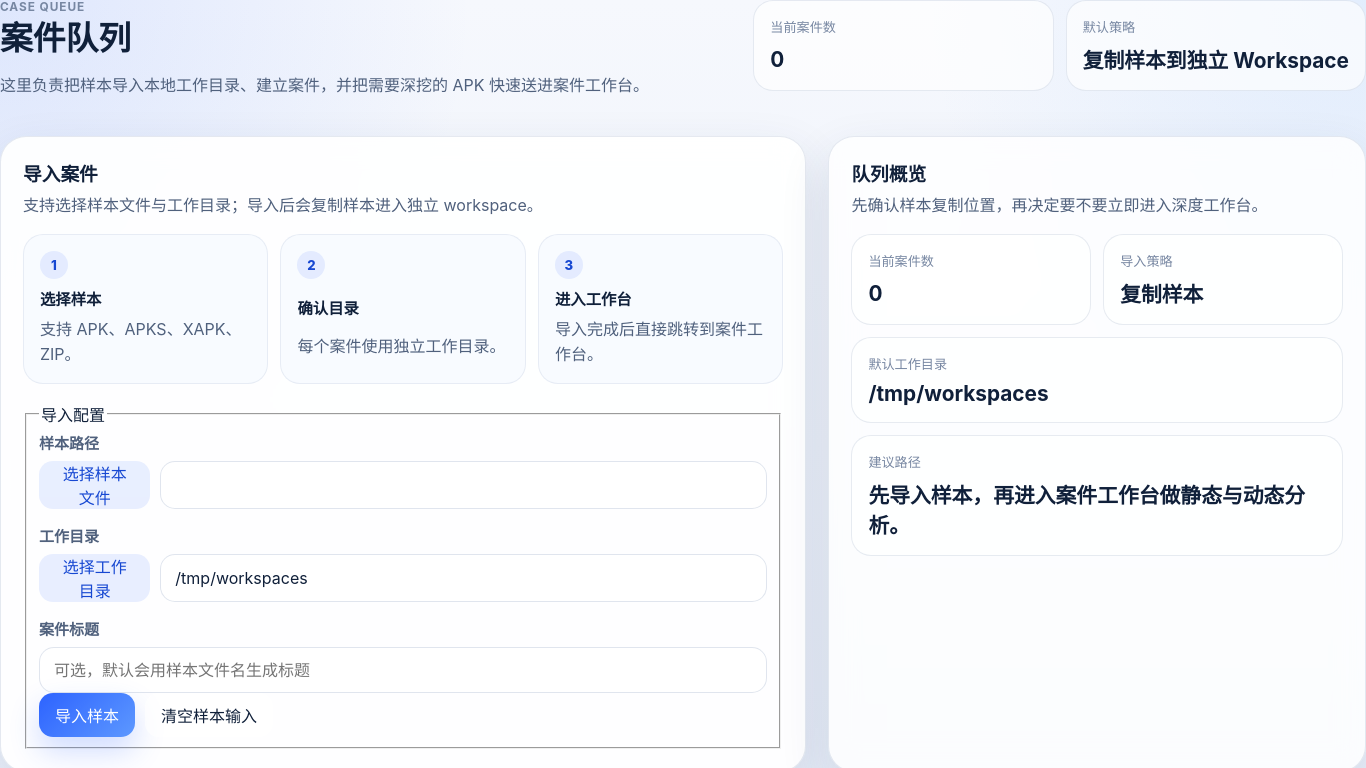
CaseQueuePage › shows a Chinese error message when importing fails
The image size is (1366, 768).
Expected: the field labelled "工作目录" holds "/tmp/workspaces", [160,554,767,602]
Type "/tmp/sample.apk" into the field labelled "样本路径".
click(464, 485); type("/tmp/sample.apk")  # box [160,461,767,509]
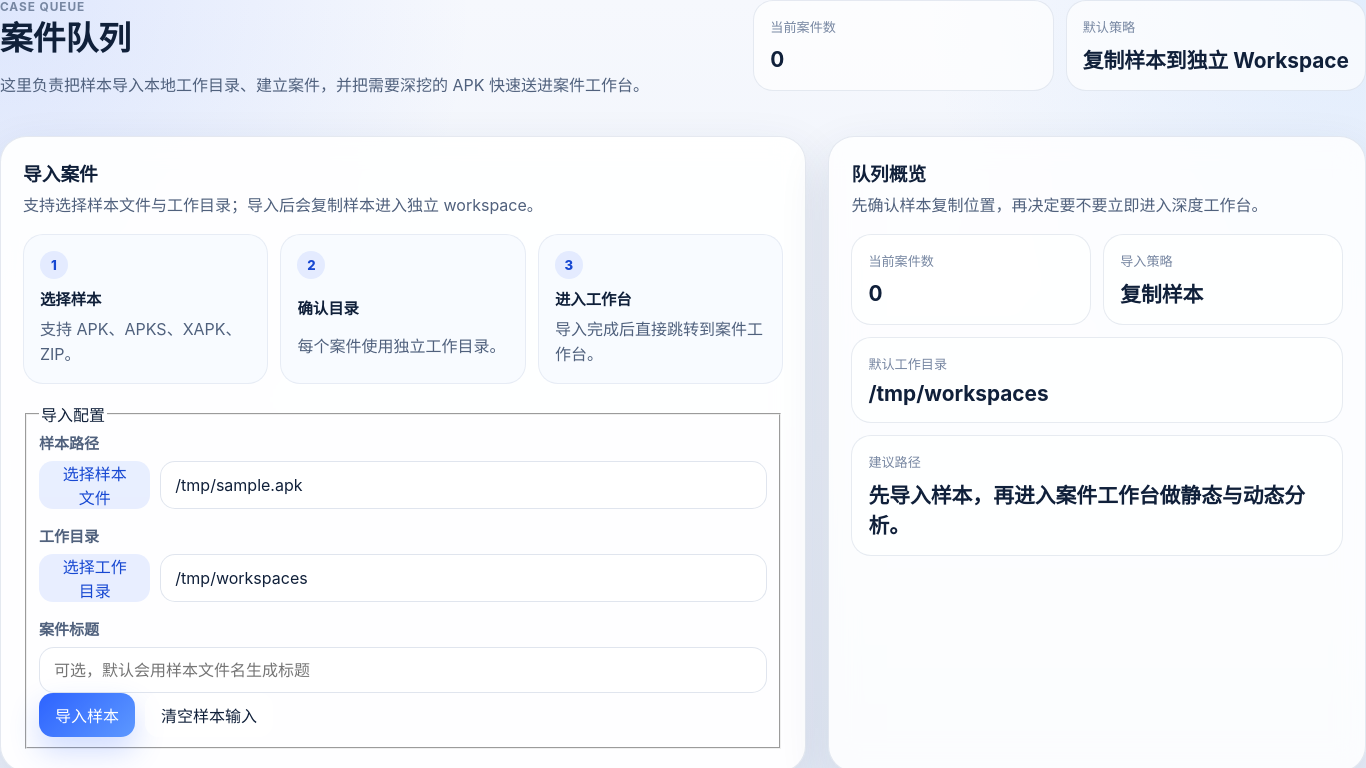
Type "导入案件" into the field labelled "案件标题".
click(403, 670); type("导入案件")  # box [39,647,767,693]
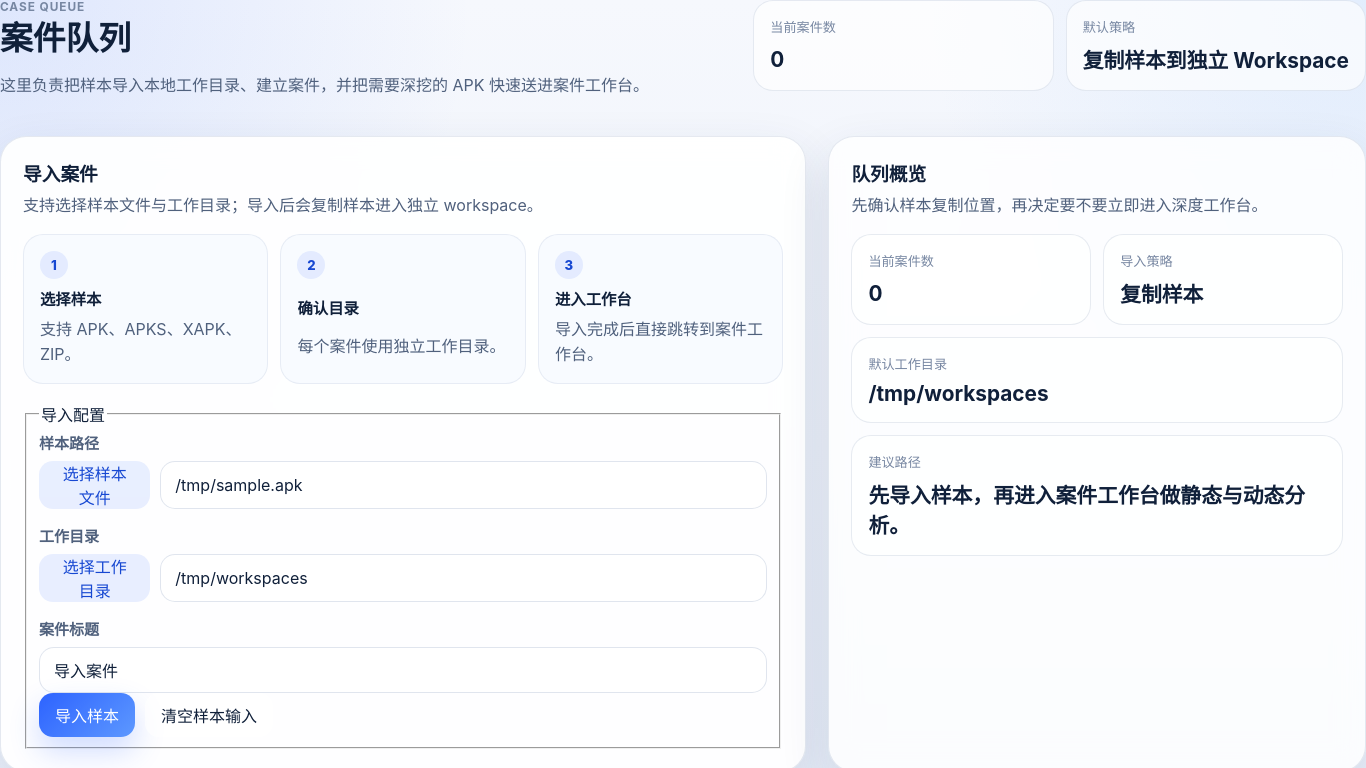
Submit the form "导入样本", box [23,402,783,749]
(page scrolled)
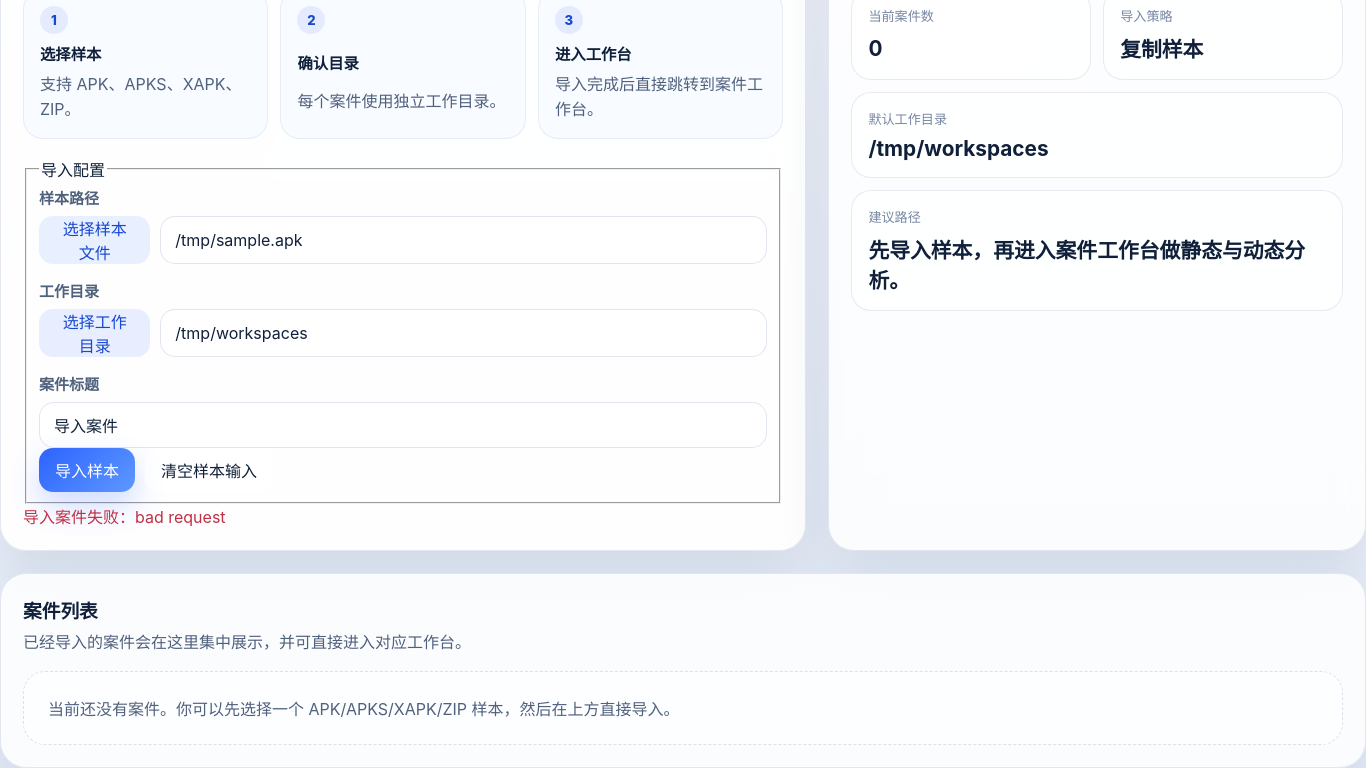
Expected: the message reads "导入案件失败：bad request", [23,507,226,527]
